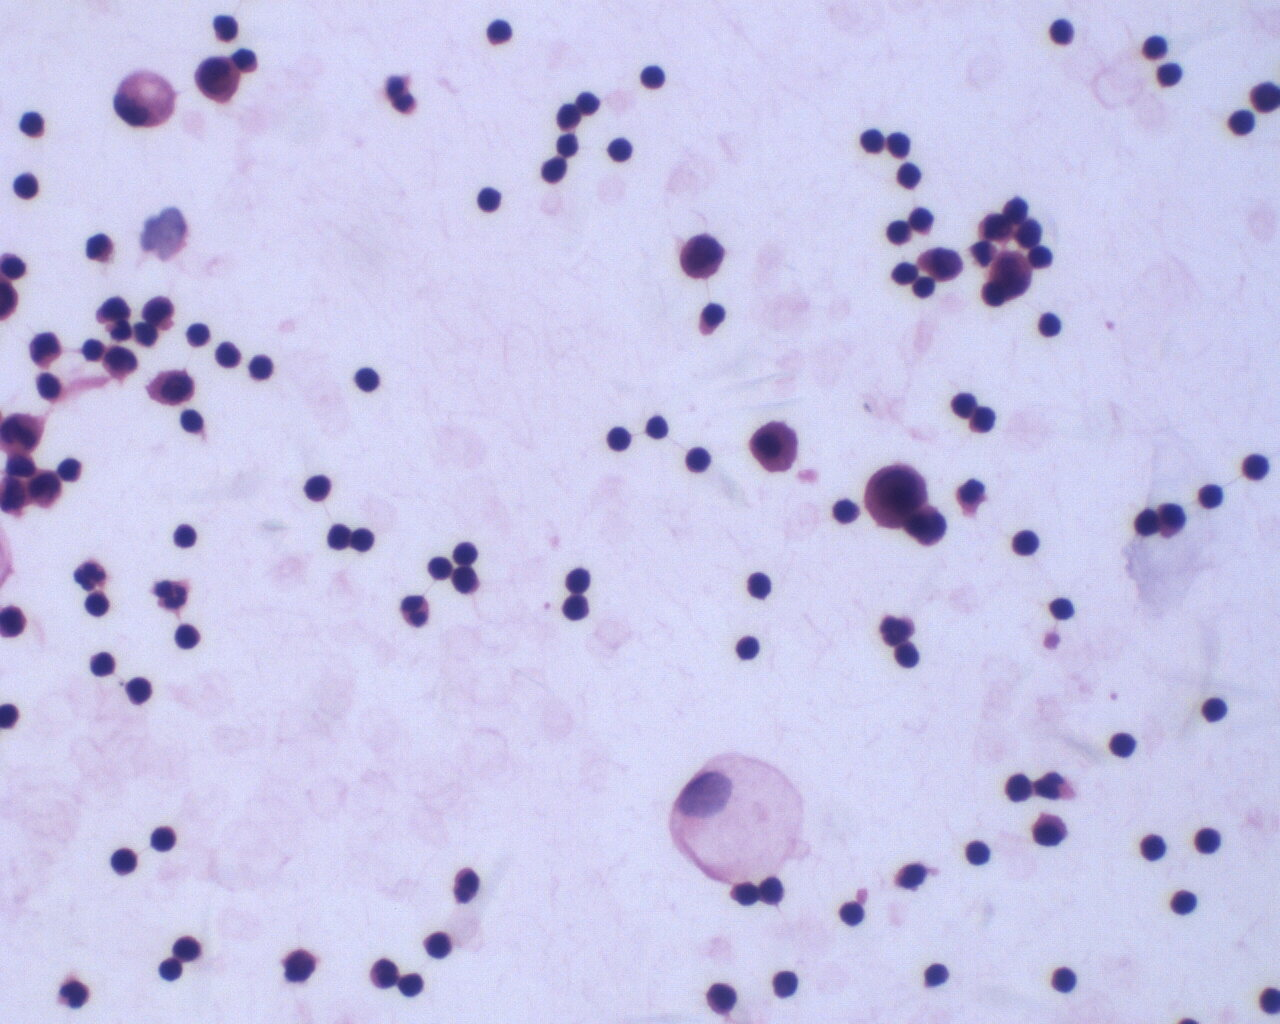ab: (861, 457, 927, 532), (673, 230, 729, 285)
histo: (671, 750, 811, 882), (109, 69, 179, 130)
lymph: (1040, 13, 1084, 53), (302, 469, 338, 513), (1107, 723, 1140, 768), (146, 816, 180, 860), (833, 892, 872, 929), (1044, 587, 1079, 627), (771, 962, 804, 1005), (1031, 305, 1069, 342), (555, 594, 595, 628), (123, 669, 156, 709), (483, 15, 518, 51), (421, 926, 456, 962), (1049, 960, 1084, 997), (961, 835, 995, 872), (743, 569, 777, 605), (177, 405, 211, 441), (731, 627, 763, 666), (1006, 526, 1041, 560), (636, 59, 671, 92), (1167, 883, 1200, 918), (607, 129, 637, 166), (600, 423, 635, 455), (473, 181, 505, 215), (1198, 478, 1229, 513), (353, 362, 381, 397), (1198, 696, 1230, 722)
meso: (748, 415, 802, 475)
neutro: (447, 865, 489, 906), (399, 591, 437, 635), (56, 975, 97, 1013), (68, 557, 110, 594), (152, 577, 193, 613)
